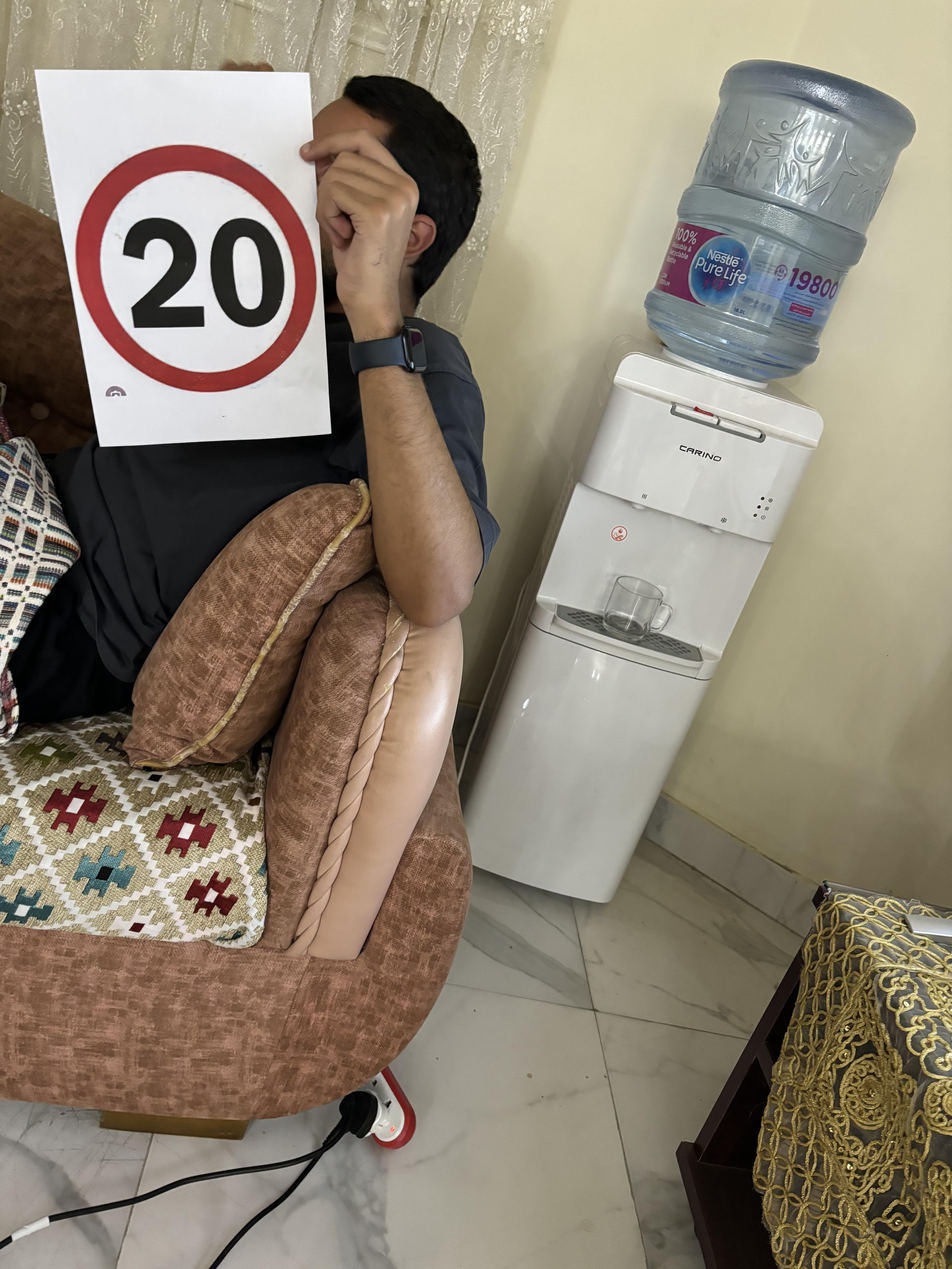20-Speed: (67, 136, 322, 397)
